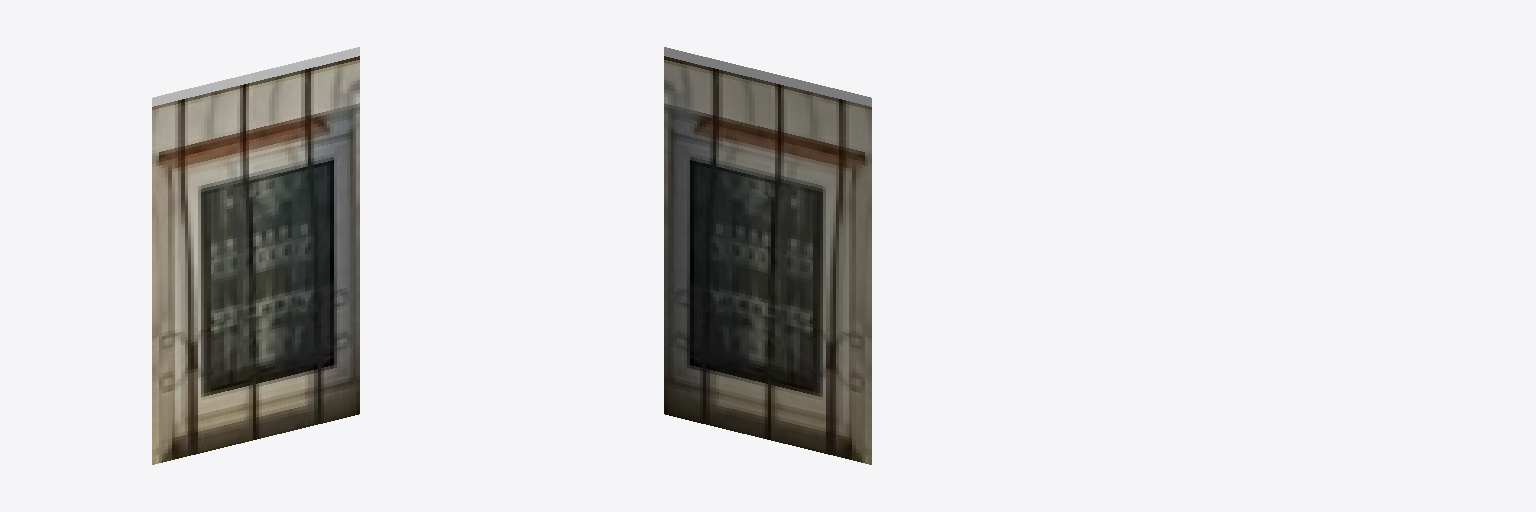
3 renders of one model, left to right at view 1: azimuth 30°, elevation 25°; view 2: azimuth 150°, elevation 25°; view 3: azimuth 270°, elevation 25°, orthographic.
Bounding box in the file's own units: 81 × 137 × 0.
Materials: 1 (1 with a texture image).